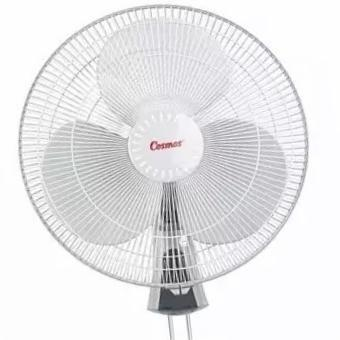fan: (15, 0, 312, 340)
